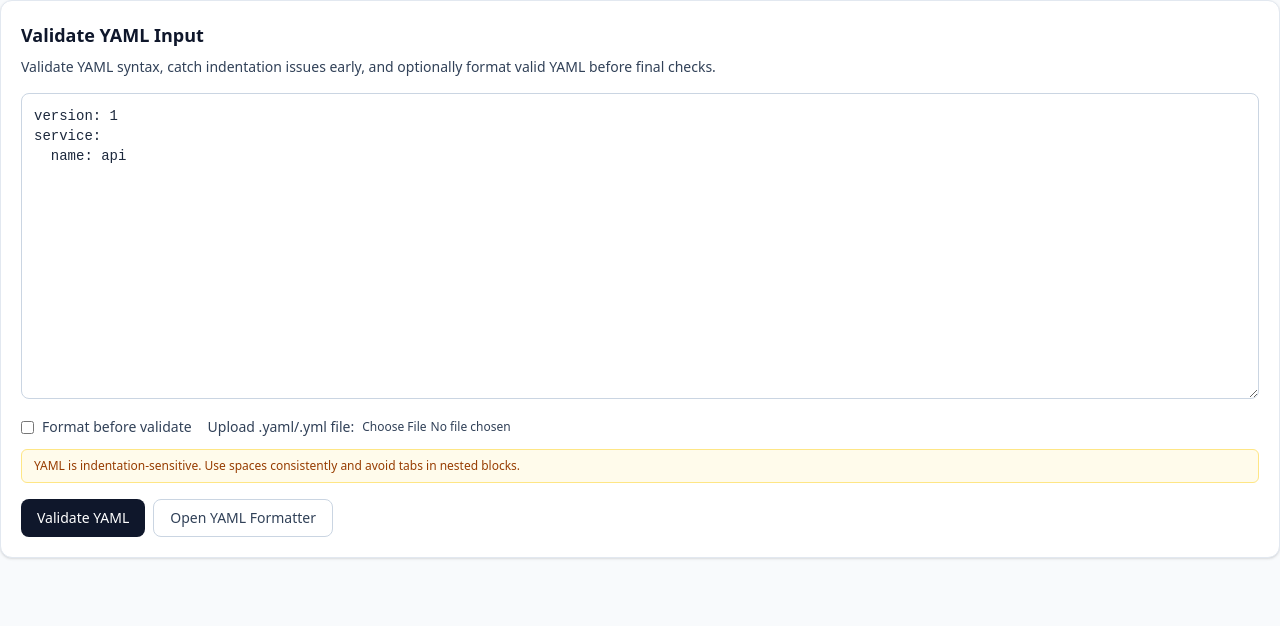
Test: YamlValidatorTool › validates correct yaml
The width and height of the screenshot is (1280, 626).
Click the button "Validate YAML": coordinates (83, 518) [21,499,145,537]
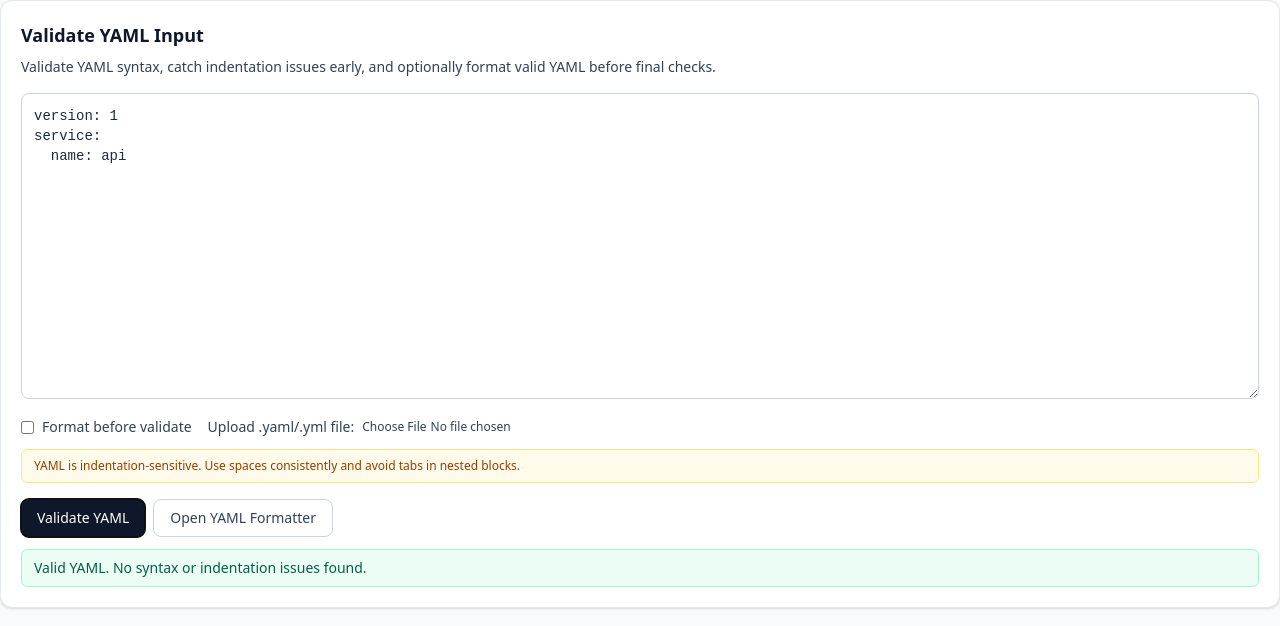
Check: the text "Valid YAML. No syntax or indentation issues found." is shown, box [21,549,1259,587]
